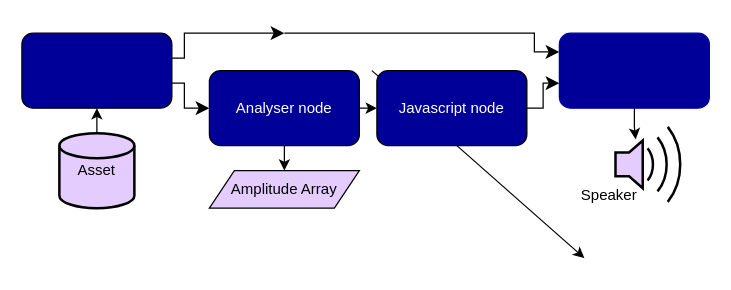
Image size: 731x290. Some labels were removed from this diagram. The box of each missing label's shape, as (x1, y1, x2, y2) in pixels:
Audio Buffer Input node: (21, 32, 172, 108)
Context Destination: (558, 32, 709, 108)
